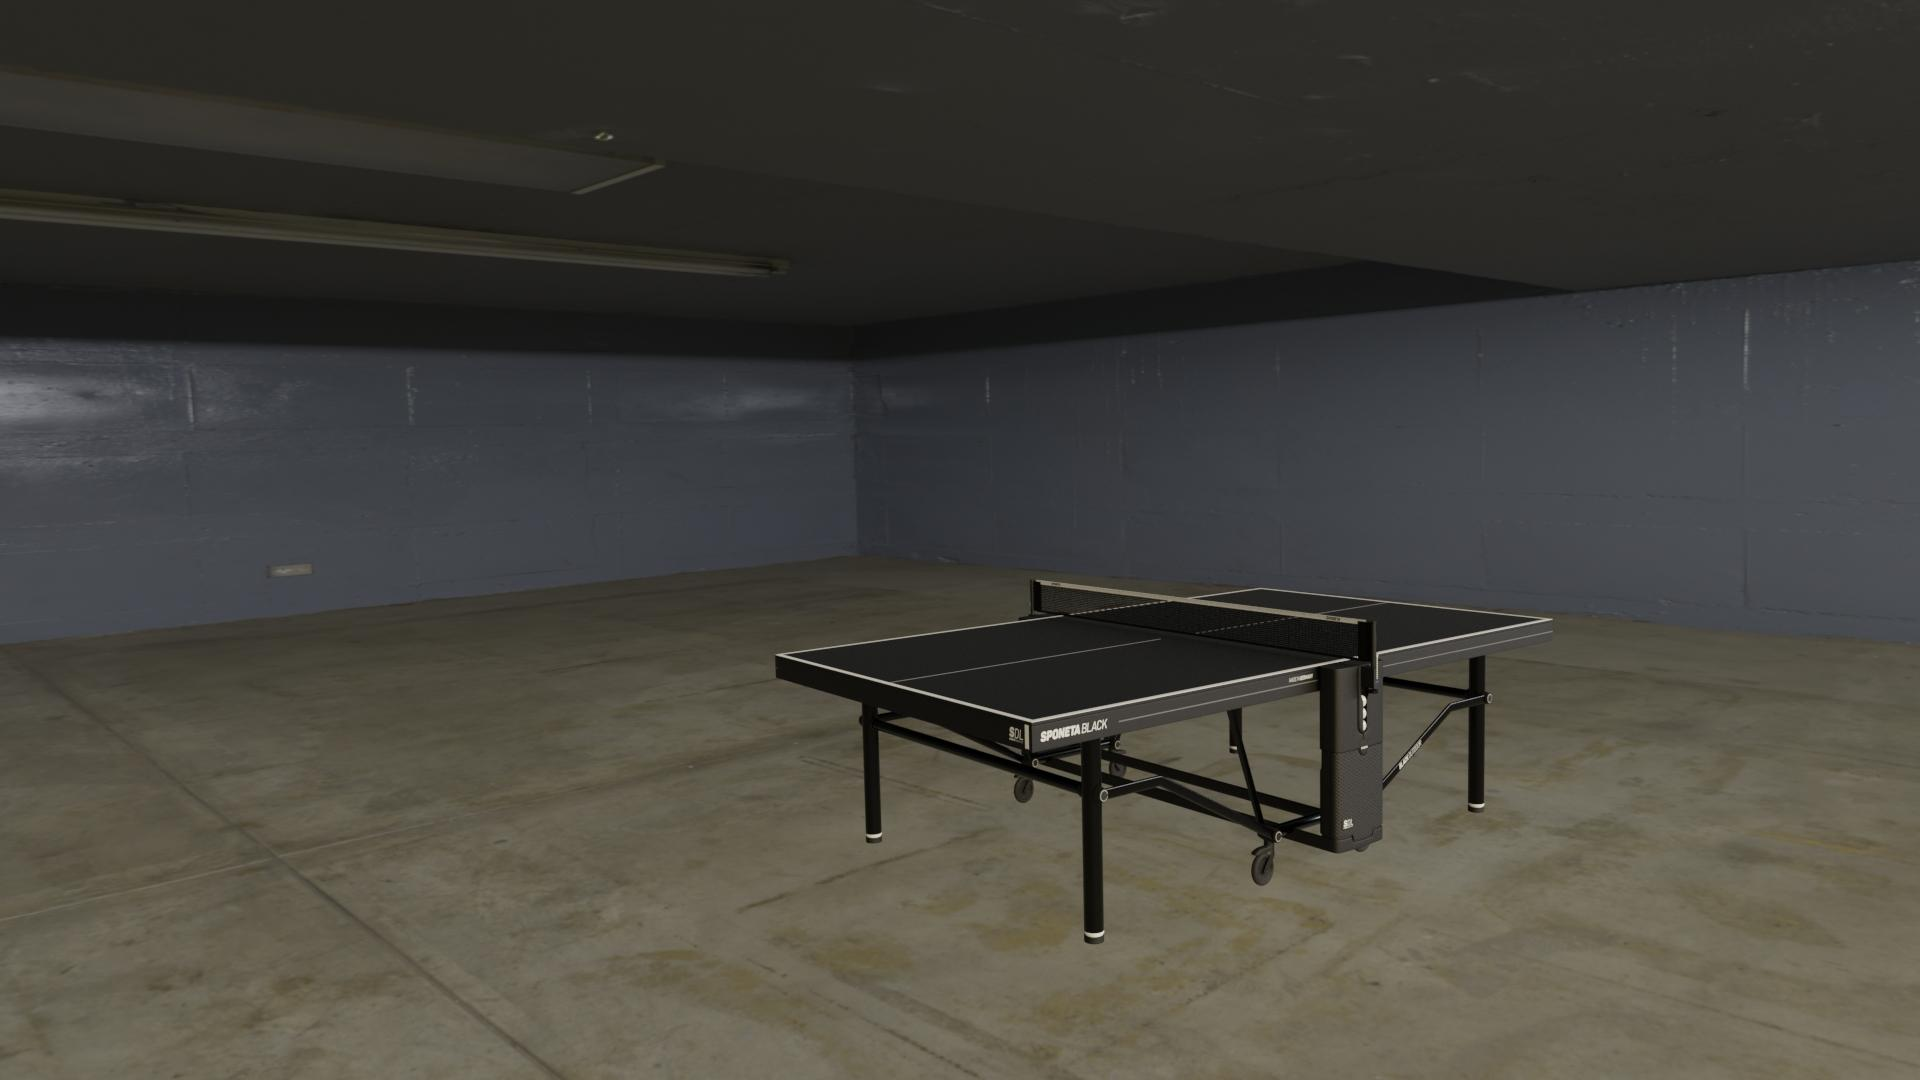table: (782, 588, 1545, 720)
